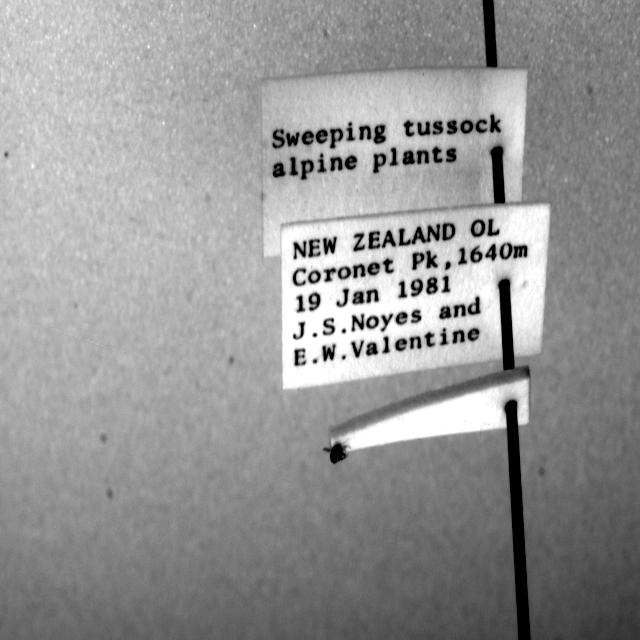typed_label: (261, 68, 528, 257), (281, 204, 550, 388)
